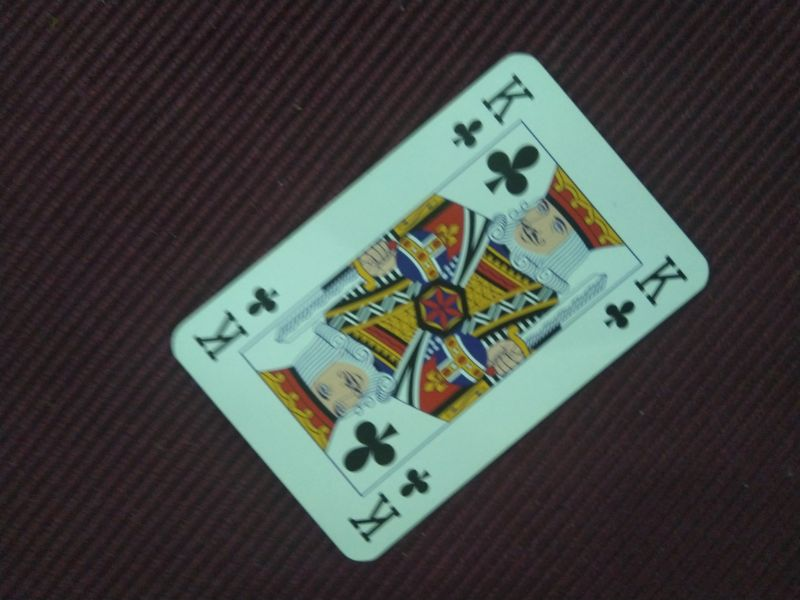Kc: (599, 248, 690, 332), (190, 284, 283, 365), (344, 464, 437, 545), (448, 71, 539, 151)
